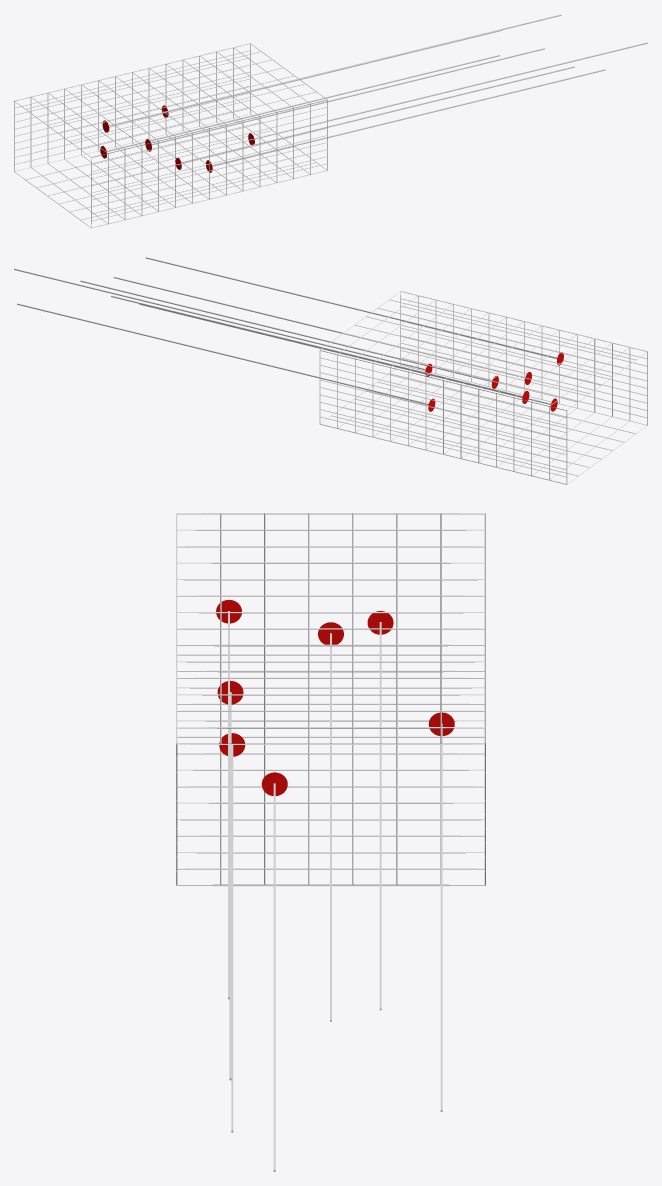
3 views of the same model, one above another, from view 1: azimuth 30°, elevation 25°; view 2: azimuth 150°, elevation 25°; view 3: azimuth 270°, elevation 25° (orthographic). The views are drawn at different scales.
Visible parts, largest first — view 1: Cube, Cylinder.003, Cylinder.002, Cylinder.004, Cylinder, Cylinder.006, Cylinder.001, Cylinder.005; view 2: Cube, Cylinder.005, Cylinder.004, Cylinder.003, Cylinder, Cylinder.001, Cylinder.002, Cylinder.006; view 3: Cube, Cylinder, Cylinder.004, Cylinder.005, Cylinder.002, Cylinder.001, Cylinder.006, Cylinder.003.
Part boxes in pixels (x1,y1,x2,y2): Cube: [14, 43, 327, 228]; Cylinder.003: [145, 48, 544, 151]; Cylinder.002: [206, 69, 605, 172]; Cylinder.004: [102, 29, 502, 132]; Cylinder: [248, 42, 647, 144]; Cylinder.006: [100, 55, 500, 158]; Cylinder.001: [175, 66, 574, 169]; Cylinder.005: [161, 14, 561, 117]; Cube: [319, 291, 647, 484]; Cylinder.005: [17, 303, 435, 411]; Cylinder.004: [111, 295, 529, 403]; Cylinder.003: [145, 257, 563, 365]; Cylinder: [14, 268, 432, 376]; Cylinder.001: [113, 276, 531, 384]; Cylinder.002: [80, 280, 498, 388]; Cylinder.006: [139, 304, 557, 411]; Cube: [176, 513, 485, 886]; Cylinder: [261, 772, 287, 1171]; Cylinder.004: [367, 611, 393, 1010]; Cylinder.005: [428, 712, 454, 1111]; Cylinder.002: [219, 733, 245, 1132]; Cylinder.001: [217, 681, 243, 1080]; Cylinder.006: [318, 622, 343, 1021]; Cylinder.003: [216, 599, 241, 999].
Bounding box in the file's own units: 17.22 × 2.02 × 3.98.
